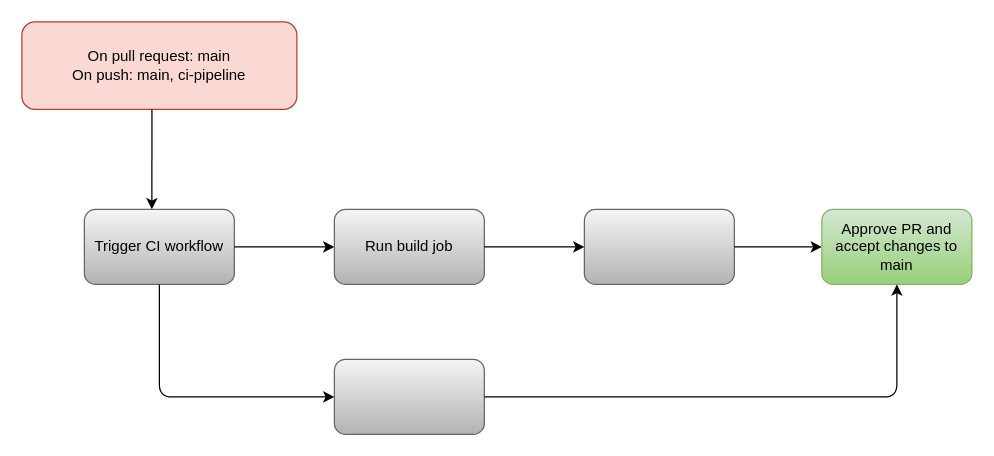
This 994x456 diagram has some shape labels left out. The shapes that lost their labels are listed below. From the top down, each one's centre as x and y in pixels, then its label:
pixel 658 246: Run test job
pixel 408 396: Run super-linter
